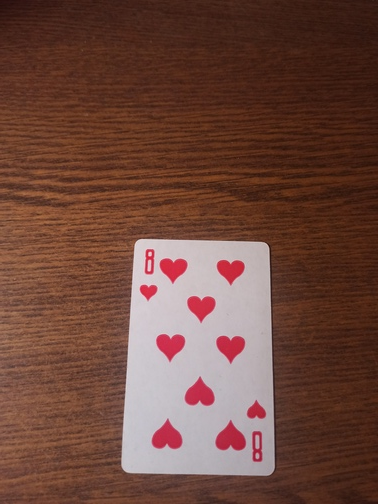eighthearts: (119, 236, 280, 477)
